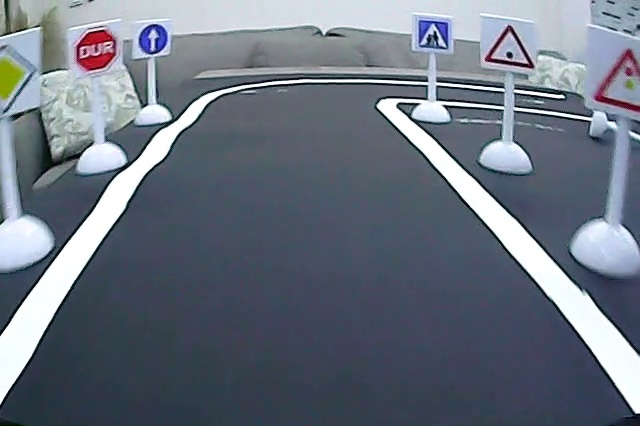green light: (483, 22, 536, 71)
red light: (589, 42, 640, 116)
school crossing: (414, 17, 454, 53)
stop sign: (73, 25, 119, 75)
